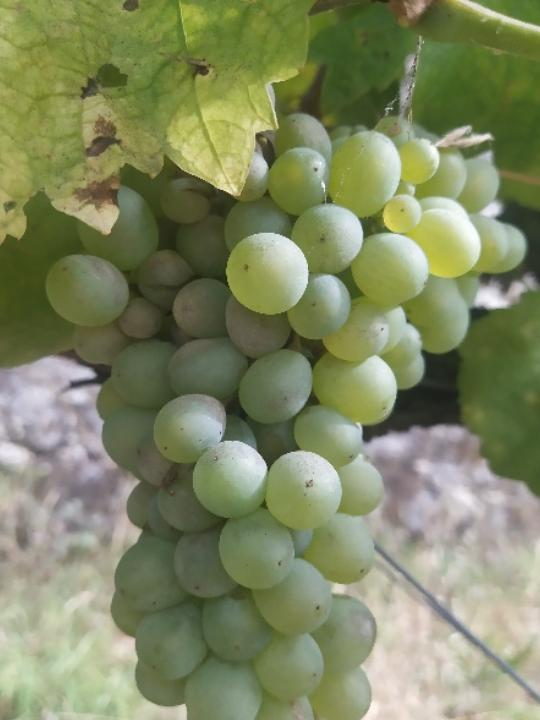grape: (44, 112, 532, 720)
